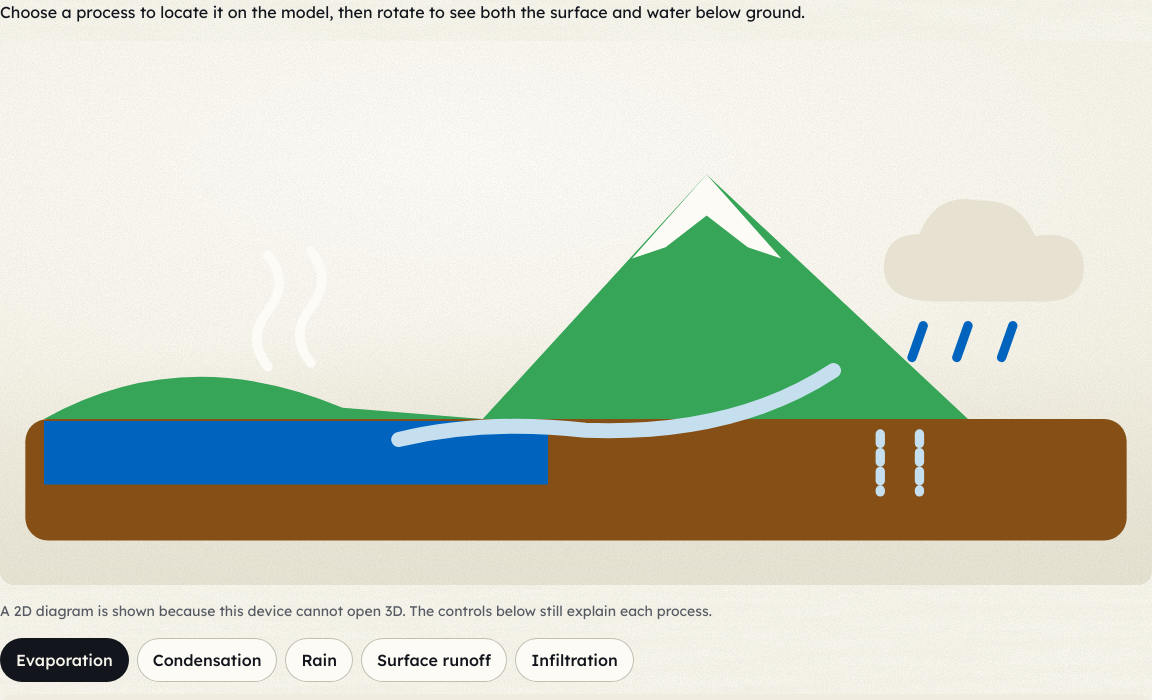
it: water cycle without WebGL › explains the selected process in the 2D fallback
The width and height of the screenshot is (1152, 700).
Check: the text "2D diagram is shown" is shown, box 0,602 -> 712,620
Click the button "Infiltration". click: (574, 660)
box: 515,638 -> 634,682
(page scrolled)
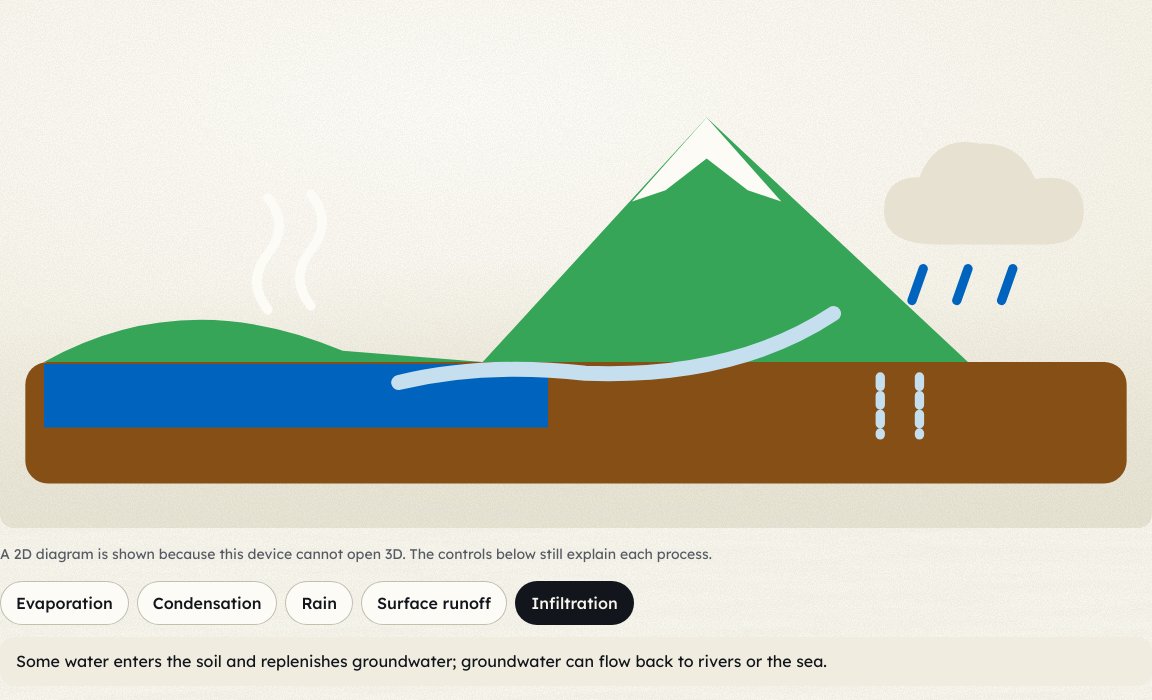
Check: the text "replenishes groundwater" is shown, box 16,652 -> 827,672
